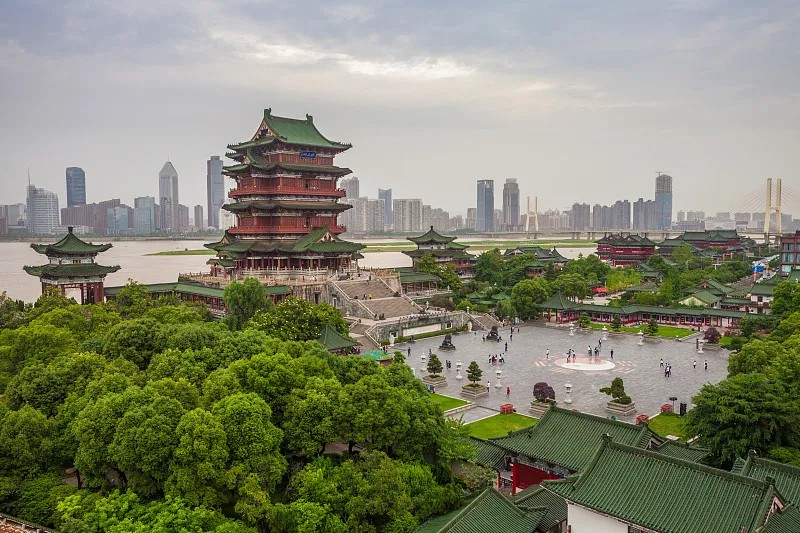Teng: (203, 107, 367, 274)
